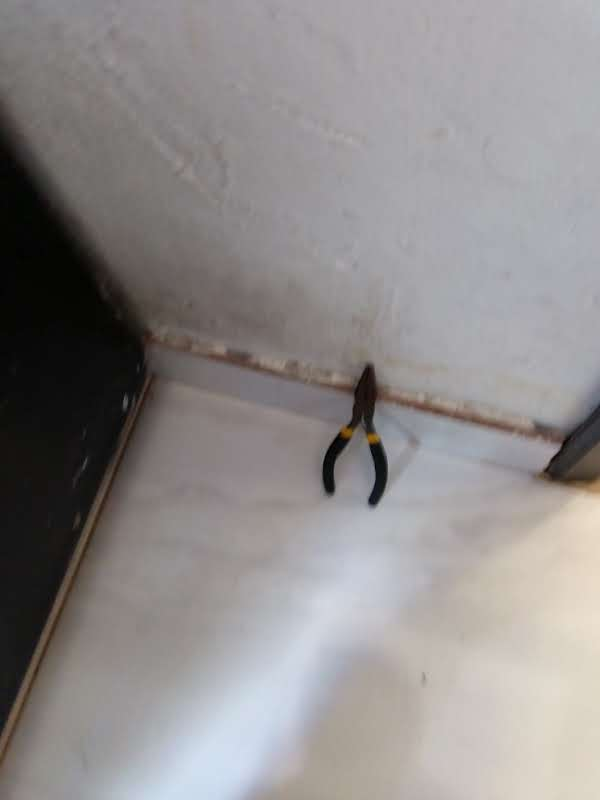Pinzas: (322, 363, 387, 504)
